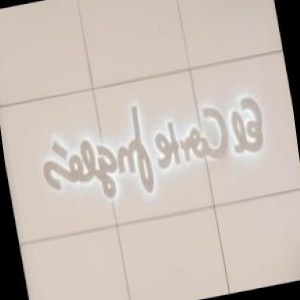corte_ingles: (243, 20, 283, 131)
